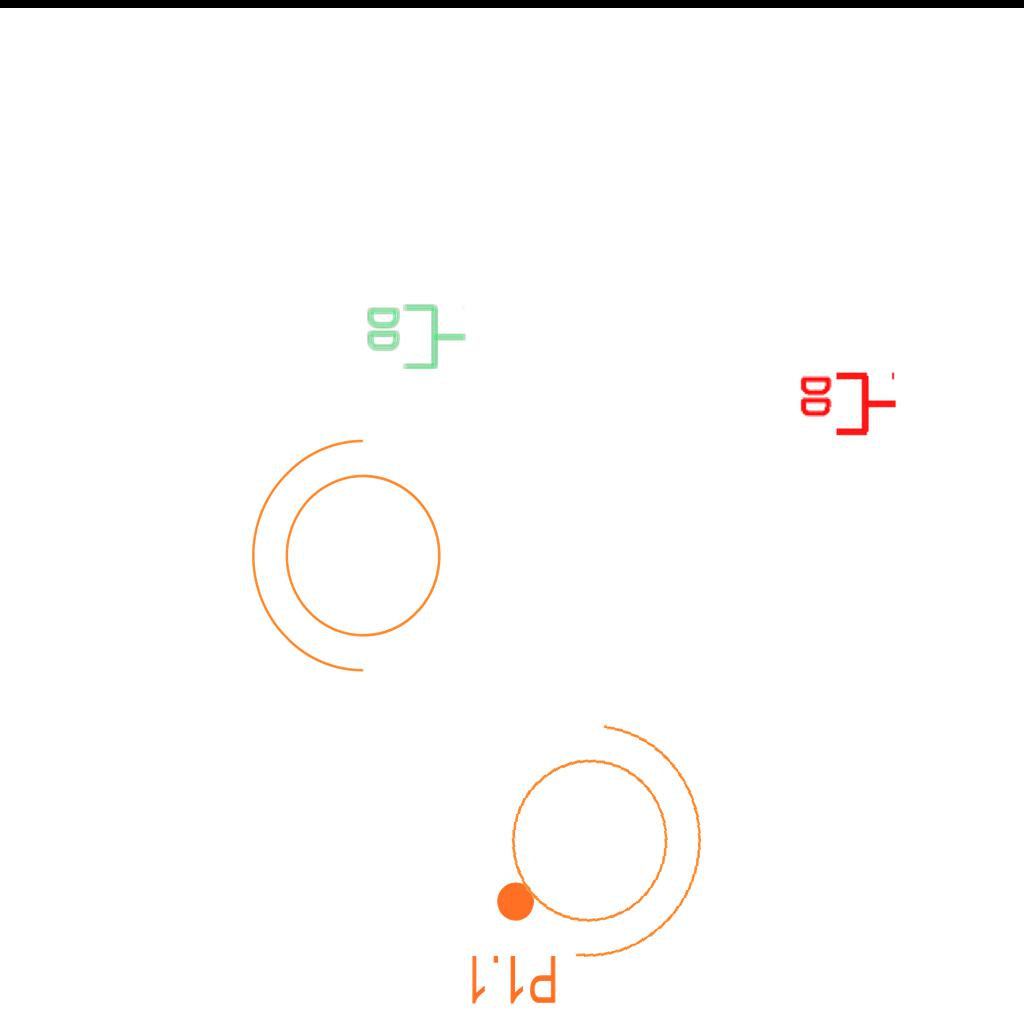Datenanschluss_zweifach: (796, 371, 899, 440), (365, 302, 468, 371)
Downlight_LED_Einbauleuchten_Flur: (466, 879, 559, 1007)
Scheinwerfer_fuer_Alarmbeleuchtung: (472, 690, 728, 981), (241, 430, 466, 694)
